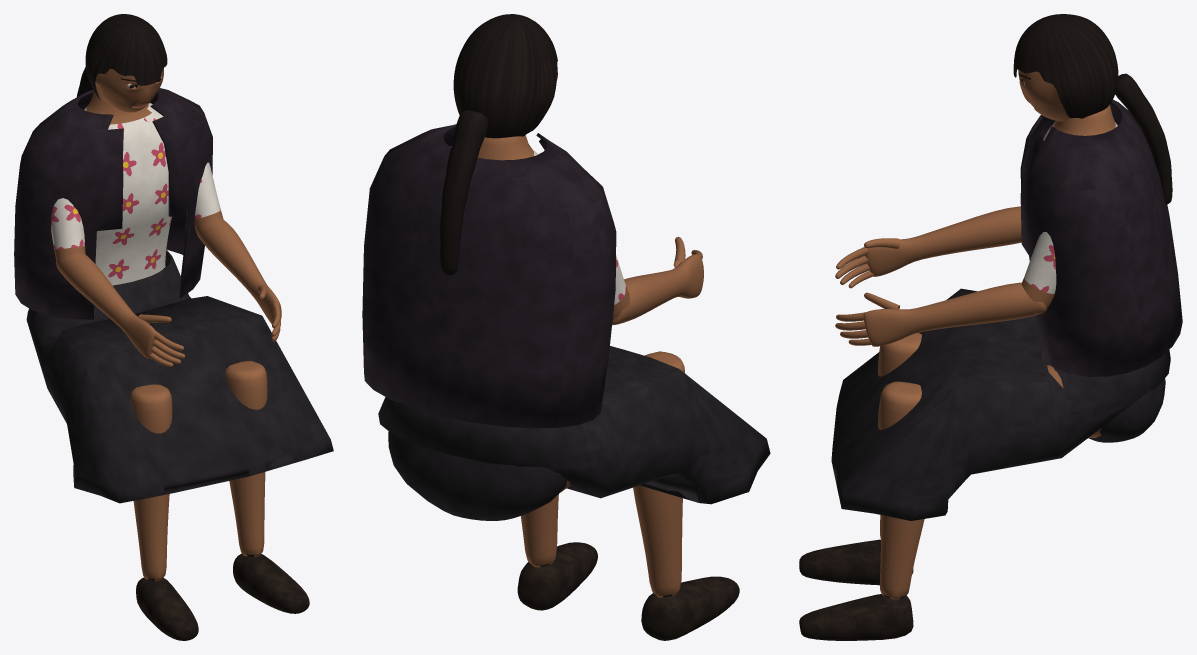
File: persona_mujer_sentada.obj
3 renders of one model, left to right at view 1: azimuth 30°, elevation 25°; view 2: azimuth 150°, elevation 25°; view 3: azimuth 270°, elevation 25°, orthographic. The views are drawn at different scales.
Parts seen in each view (by area): view 1: persona_mujer_sentada; view 2: persona_mujer_sentada; view 3: persona_mujer_sentada.
Boxes of the visible parts, left/top/right/bottom form: persona_mujer_sentada: left=14, top=14, right=333, bottom=640; persona_mujer_sentada: left=362, top=14, right=770, bottom=640; persona_mujer_sentada: left=799, top=14, right=1182, bottom=640.
Size of the model in its own units: 0.6023 by 1.25 by 0.7347.
12 materials, 12 textured.
